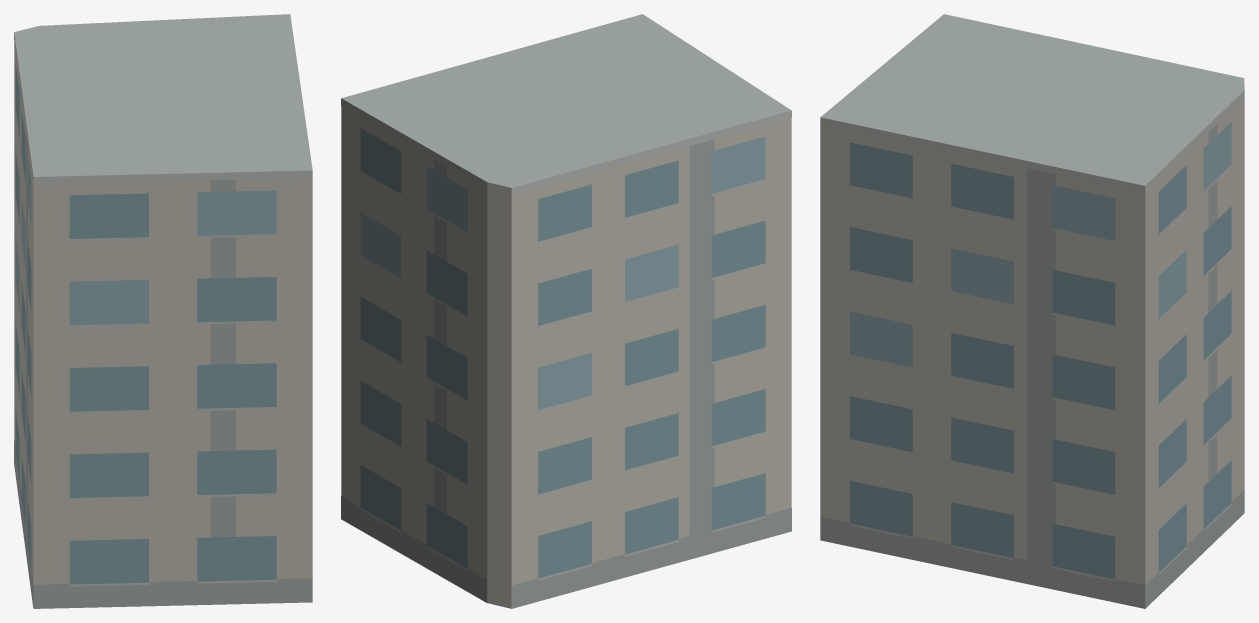
Rendered from survey-upis-32724583.glb.
3 views of the same model, side by side, from view 1: azimuth 30°, elevation 25°; view 2: azimuth 150°, elevation 25°; view 3: azimuth 270°, elevation 25° (orthographic). The views are drawn at different scales.
Visible parts, largest first — view 1: survey-upis-32724583.tmp; view 2: survey-upis-32724583.tmp; view 3: survey-upis-32724583.tmp.
Part boxes in pixels (x1,y1,x2,y2): survey-upis-32724583.tmp: [14, 14, 312, 608]; survey-upis-32724583.tmp: [341, 14, 791, 608]; survey-upis-32724583.tmp: [820, 14, 1244, 608].
Size of the model in its own units: 12.12 by 13.9 by 12.65.
